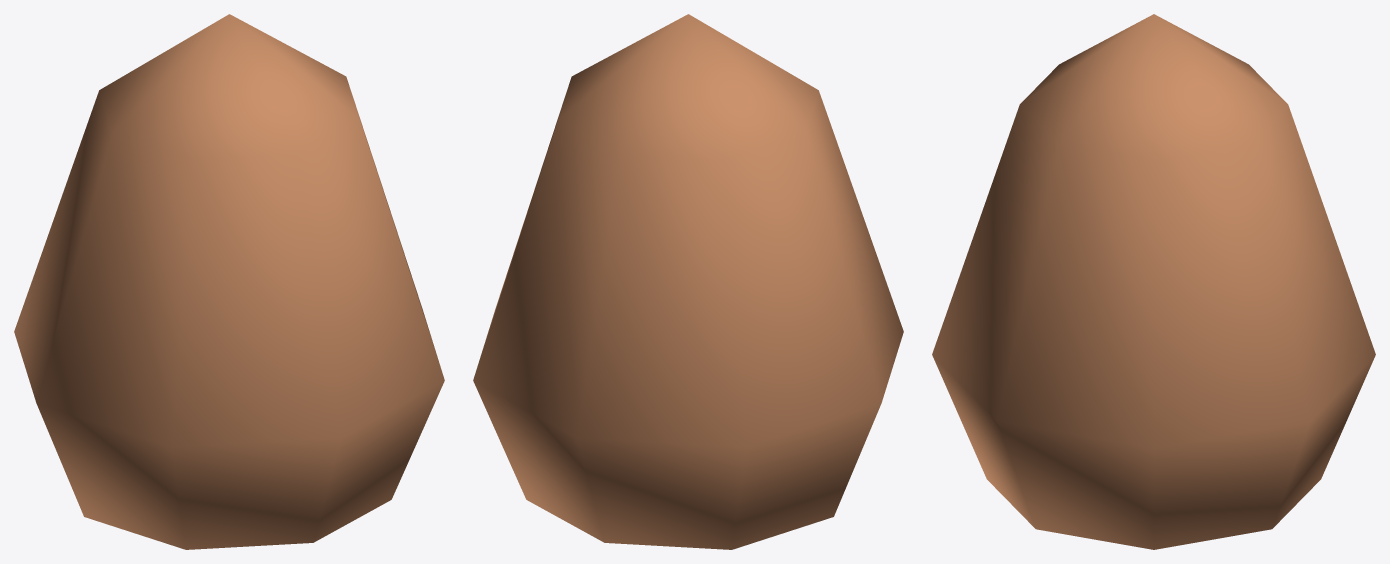
Rendered from egg.glb.
3 views of the same model, side by side, from view 1: azimuth 30°, elevation 25°; view 2: azimuth 150°, elevation 25°; view 3: azimuth 270°, elevation 25° (orthographic).
Parts seen in each view (by area): view 1: 球体; view 2: 球体; view 3: 球体.
Boxes of the visible parts, bbox=[...] form: 球体: bbox=[14, 14, 444, 549]; 球体: bbox=[473, 14, 903, 549]; 球体: bbox=[932, 14, 1375, 549].
Size of the model in its own units: 1.88 by 2.4 by 1.88.
